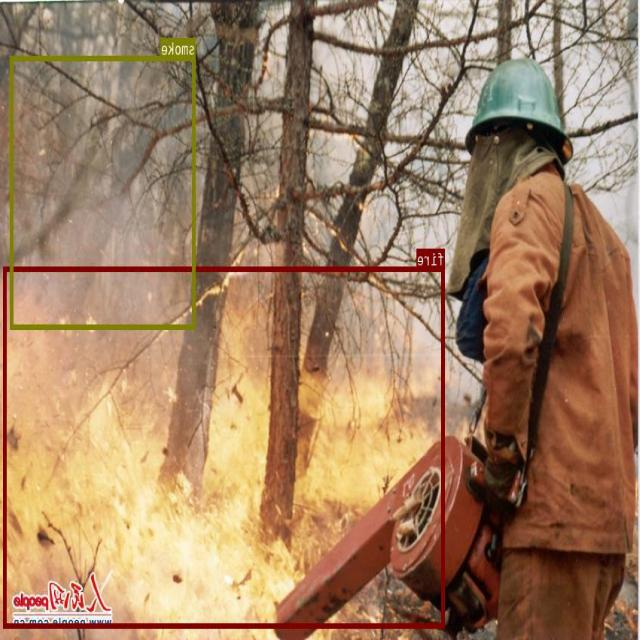fire: (4, 266, 446, 626)
smoke: (11, 55, 196, 328)
